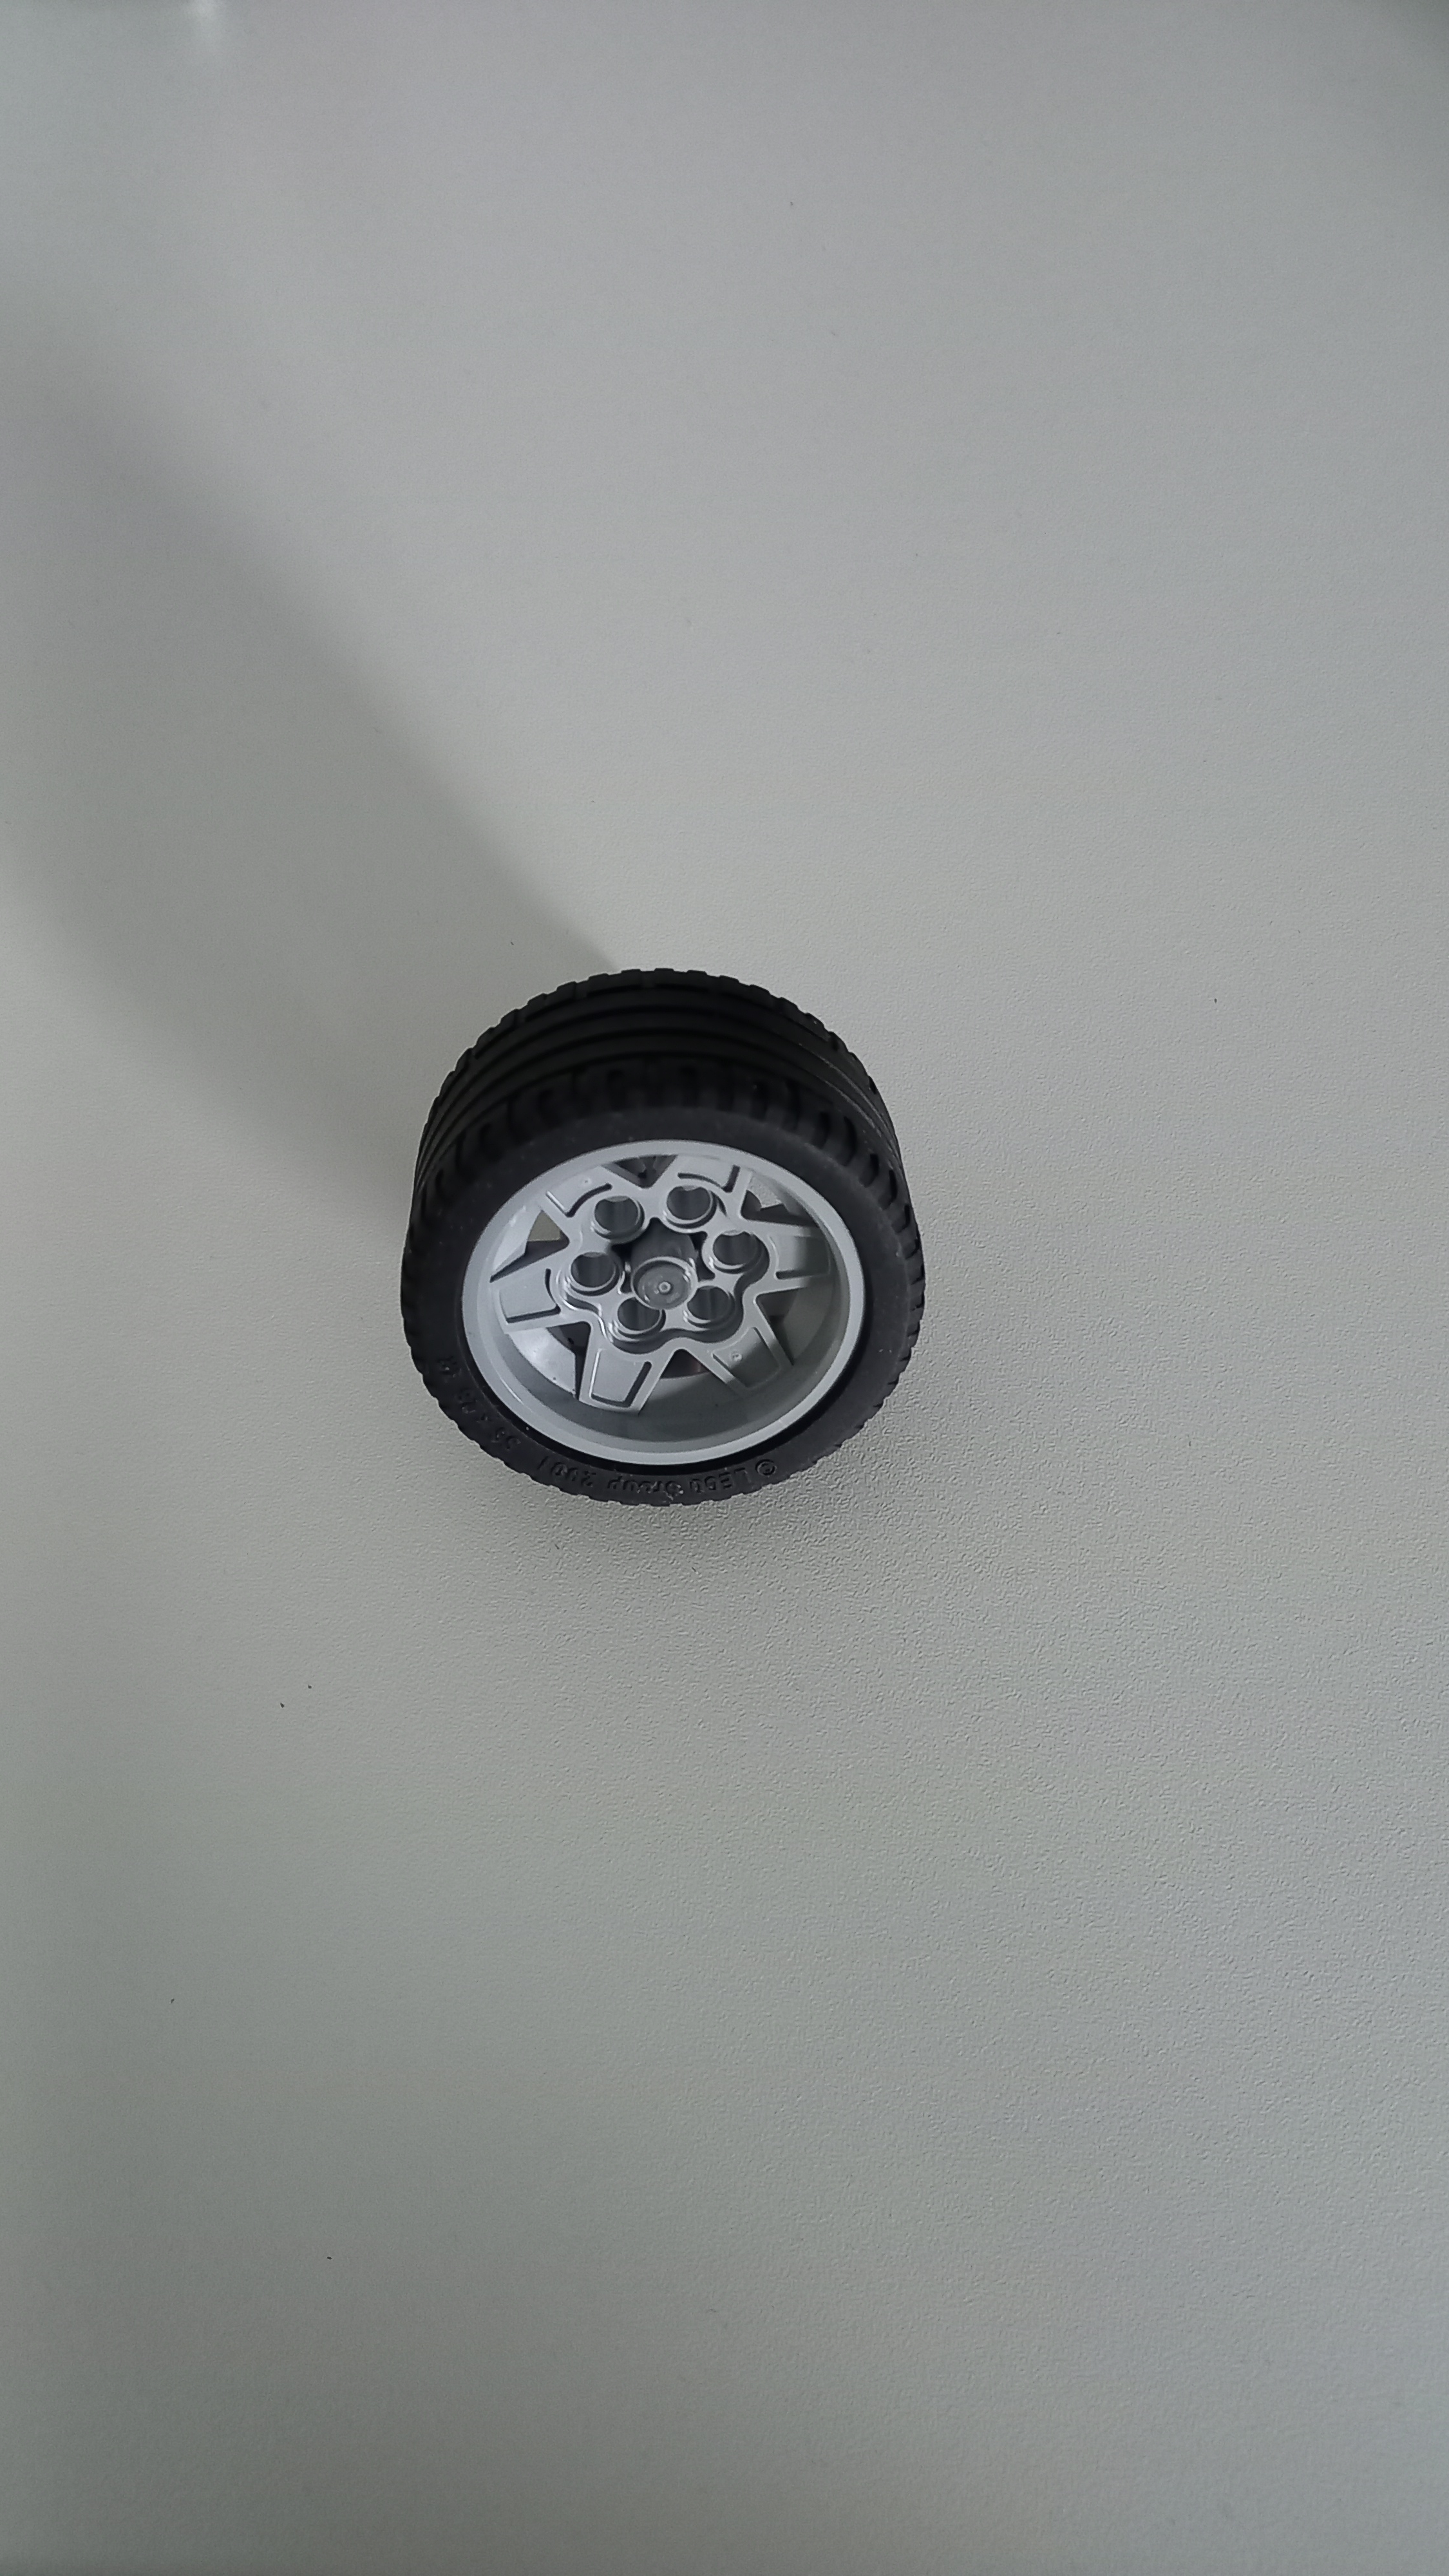Rad+Grau_lang: (380, 947, 954, 1534)
